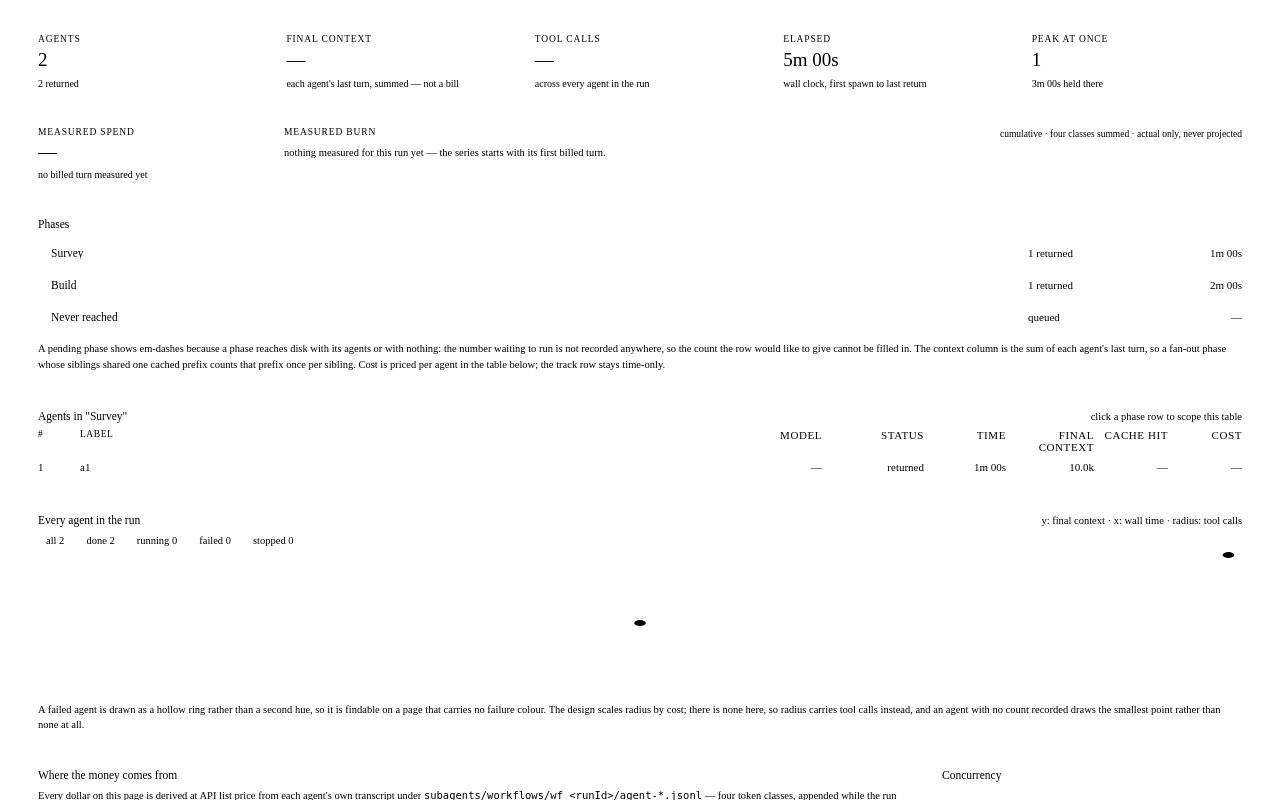
Test: the phase Gantt › scopes the agent table to the phase whose row was clicked
Click the button with test id "wfu-gantt-row" showing "Build 1 returned 2m 00s" at (1050, 285), box [51,279,1242,291]
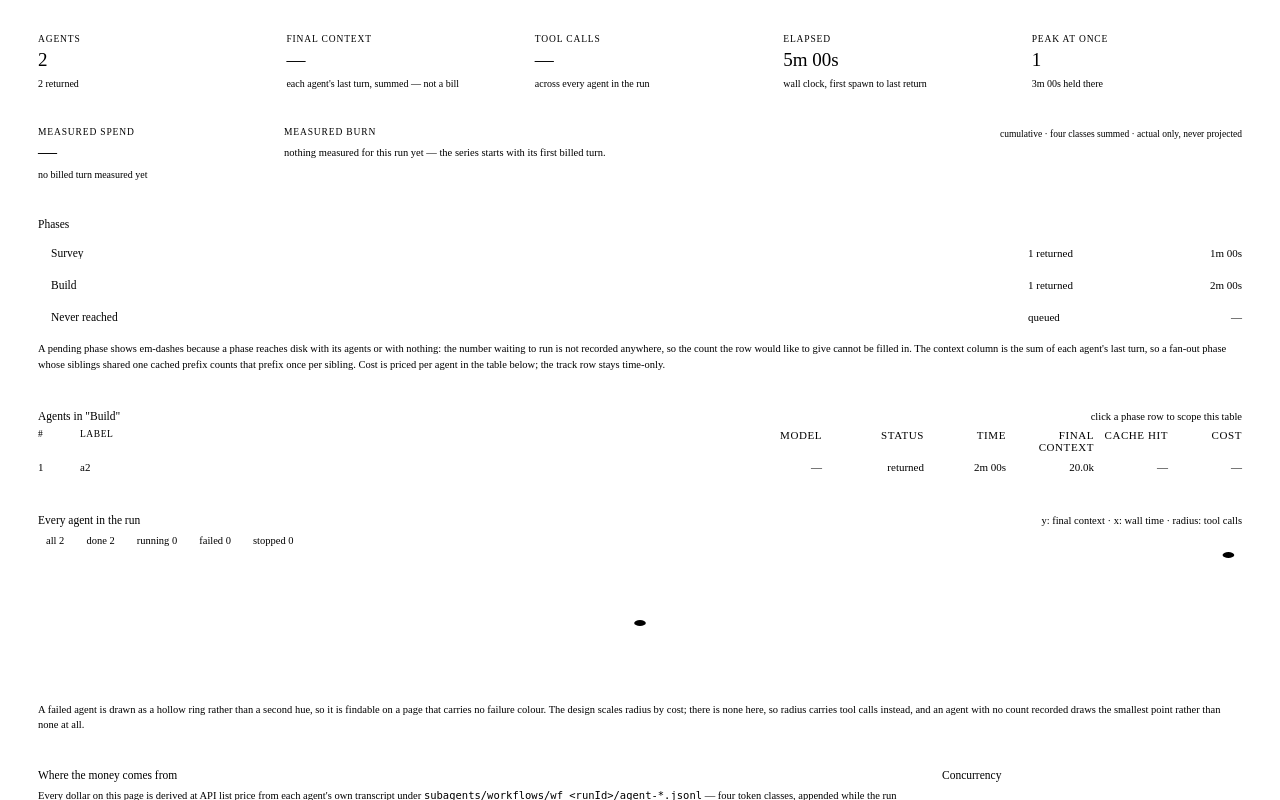
Expected: the number of elements with test id "wfu-agent-row" is 1, [38,456,1242,476]
Result: the text with test id "wfu-agent-table-title" shows "Build" at [38,410,120,422]
